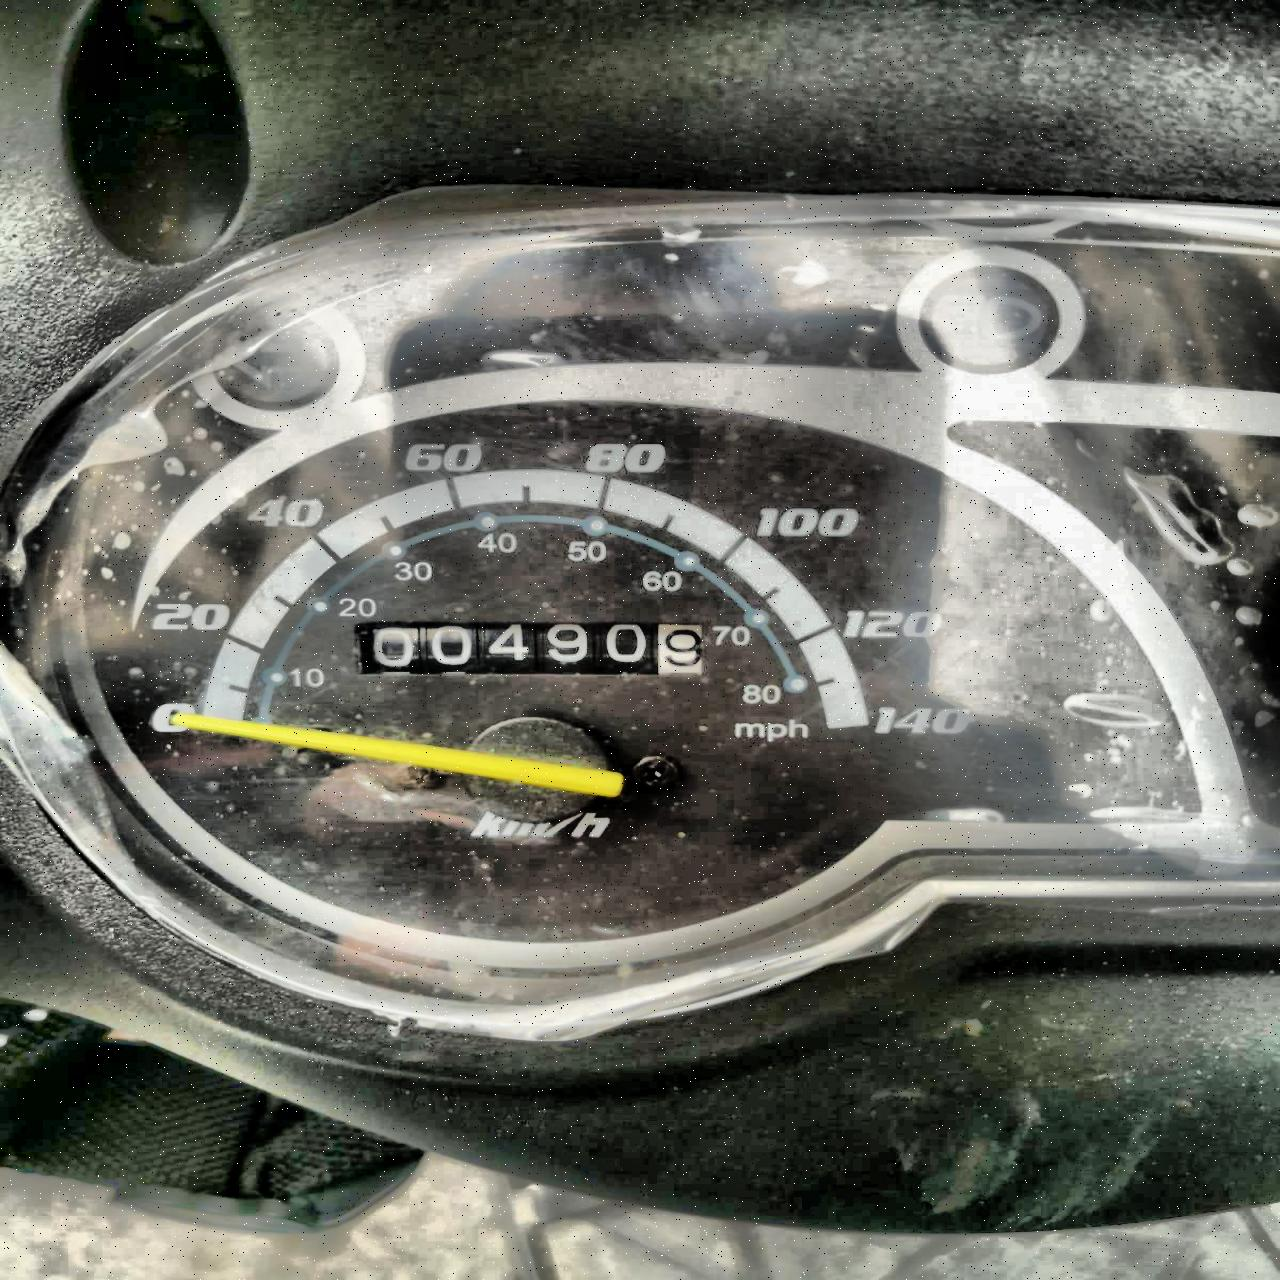0: (429, 624, 470, 665), (373, 625, 413, 666), (605, 624, 646, 662)
4: (486, 622, 529, 661)
9: (545, 622, 587, 662), (662, 627, 701, 667)
odometer: (348, 617, 707, 680)
